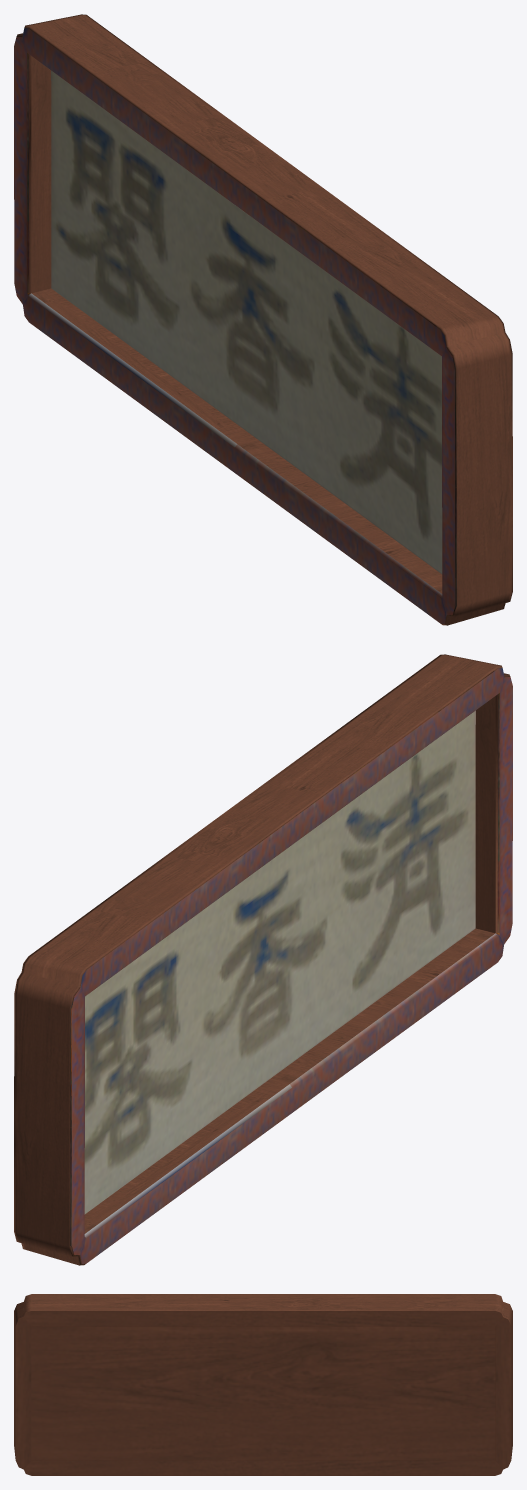
File: SM_Stela05C.fbx
The picture shows the model from 3 angles, top to bottom: view 1: azimuth 30°, elevation 25°; view 2: azimuth 150°, elevation 25°; view 3: azimuth 270°, elevation 25°; orthographic projection. The views are drawn at different scales.
Visible parts, largest first — view 1: SM_Stela05C; view 2: SM_Stela05C; view 3: SM_Stela05C.
Boxes of the visible parts, x1=… form: SM_Stela05C: x1=14, y1=14, x2=512, y2=625; SM_Stela05C: x1=14, y1=654, x2=512, y2=1265; SM_Stela05C: x1=14, y1=1294, x2=512, y2=1475.
Bounding box in the file's own units: 7.33 × 96 × 35.59.
Materials: 1 (1 with a texture image).
